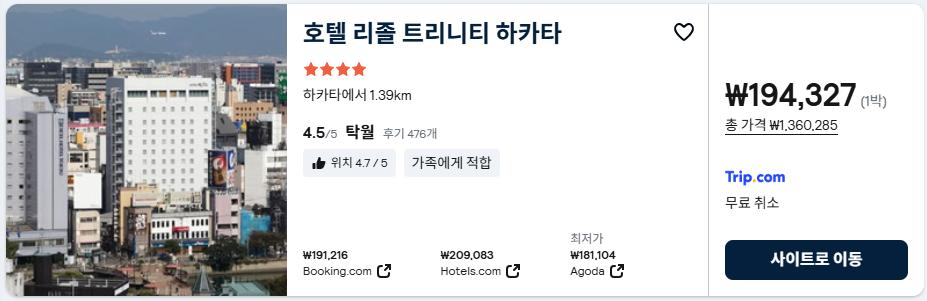button: (729, 241, 903, 282), (723, 117, 833, 133), (603, 265, 637, 282), (361, 267, 395, 283), (503, 266, 519, 284)
